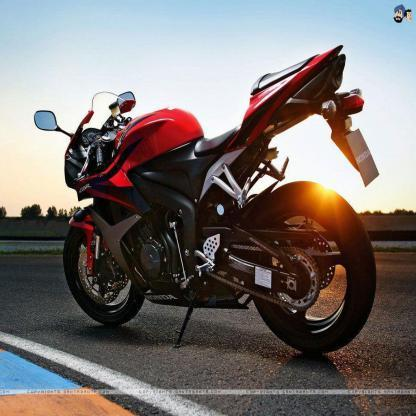Motorcycle: (25, 37, 384, 356)
